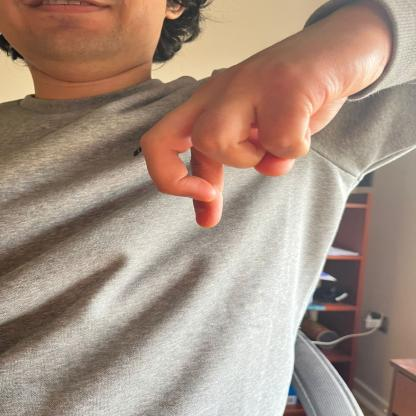P: (139, 0, 400, 233)
